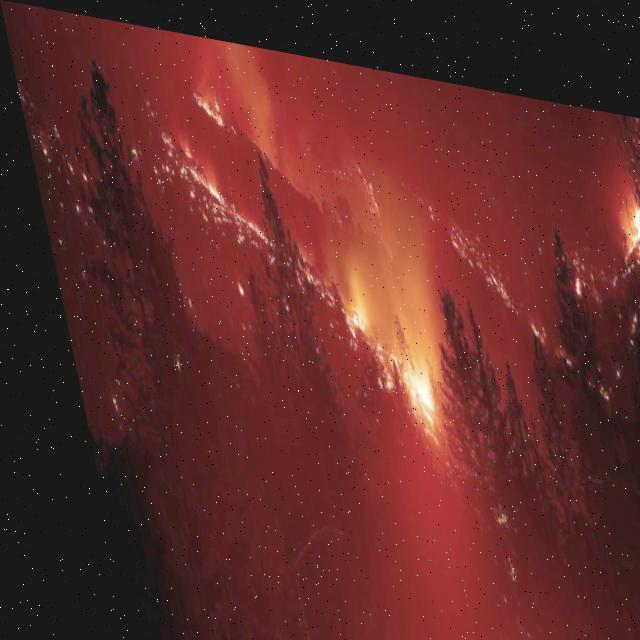Fire: (158, 69, 271, 242), (329, 291, 428, 411), (604, 165, 639, 249)
